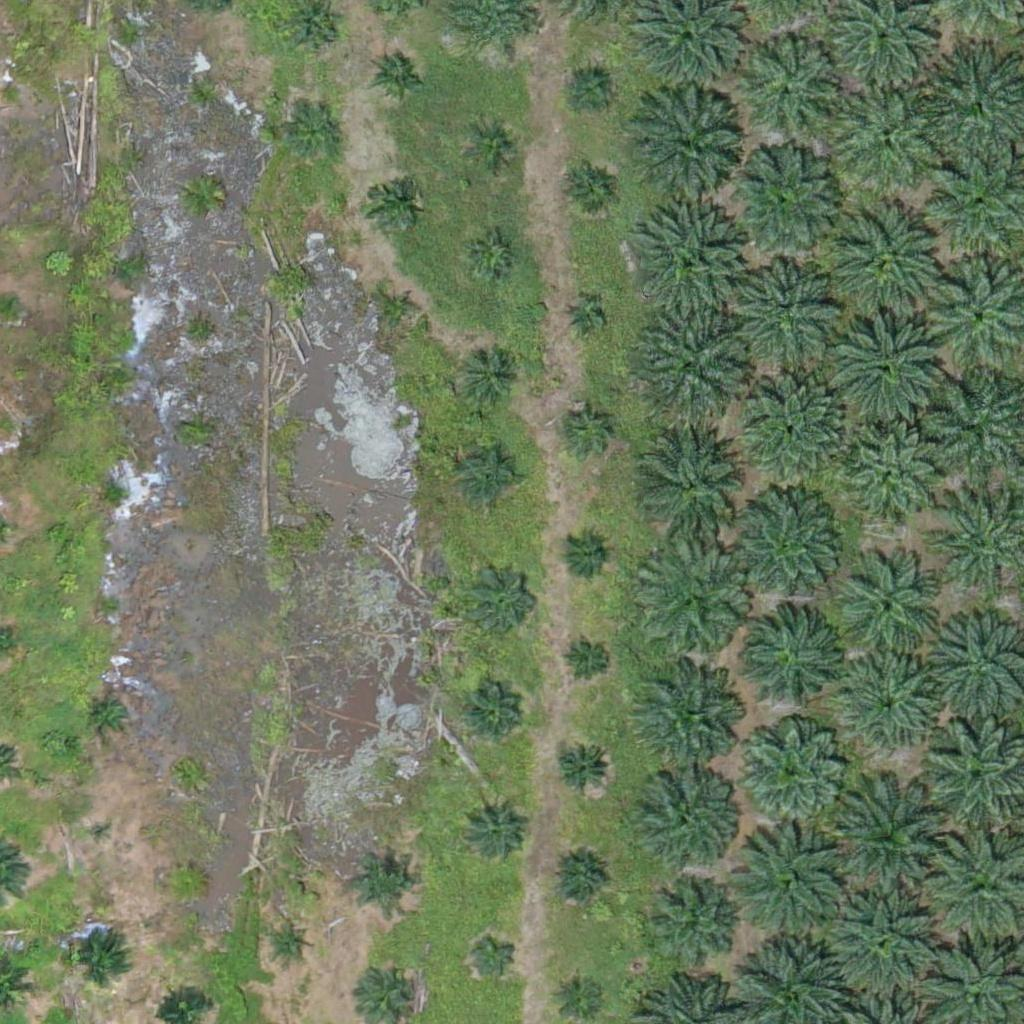Kelapa_Sawit: (831, 777, 956, 903), (826, 885, 939, 999), (736, 830, 849, 944), (734, 715, 847, 829), (638, 547, 751, 661), (635, 206, 748, 319), (636, 308, 749, 421), (636, 423, 749, 536), (832, 78, 945, 191), (728, 492, 841, 605), (631, 666, 743, 780), (633, 95, 745, 208), (730, 144, 842, 257), (737, 29, 849, 142), (835, 202, 947, 315), (831, 309, 943, 422), (746, 375, 846, 476), (742, 261, 842, 362), (843, 429, 943, 530), (840, 561, 940, 662), (637, 764, 737, 865), (841, 654, 941, 754), (745, 608, 845, 708), (647, 881, 735, 969), (465, 560, 540, 635), (352, 848, 415, 911), (67, 920, 130, 983), (461, 687, 524, 750), (551, 737, 614, 800), (461, 347, 523, 410), (460, 444, 522, 507), (462, 798, 524, 861), (548, 849, 610, 912), (370, 45, 432, 108), (563, 404, 613, 455), (554, 966, 604, 1017), (469, 928, 519, 979), (559, 528, 609, 579), (289, 112, 339, 162), (365, 176, 415, 226), (467, 232, 517, 282), (468, 123, 518, 173), (563, 636, 613, 686), (565, 64, 615, 114), (566, 167, 616, 217), (85, 690, 135, 740), (272, 924, 310, 962), (382, 290, 420, 328), (565, 299, 603, 337), (169, 864, 207, 902), (89, 818, 114, 843)
